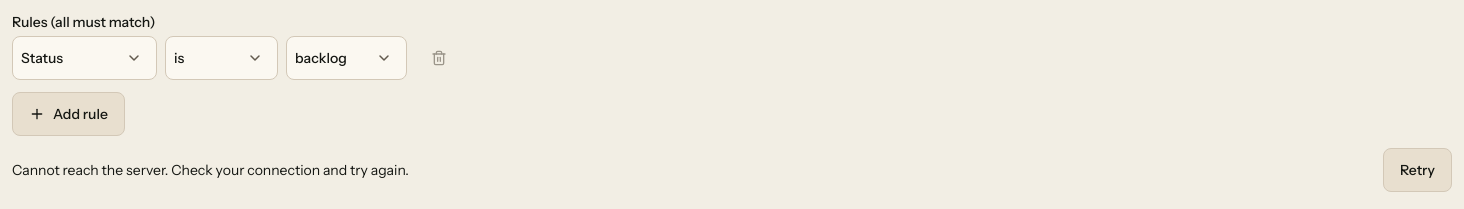
Test: RuleBuilder › shows a scoped preview error with Retry
The width and height of the screenshot is (1464, 209).
Expected: the message "Cannot reach the server. Check your connection and try again. Retry" is shown, x1=12 y1=148 x2=1452 y2=192
Click the button "Retry".
click(1418, 170)  # box x1=1383 y1=148 x2=1452 y2=192
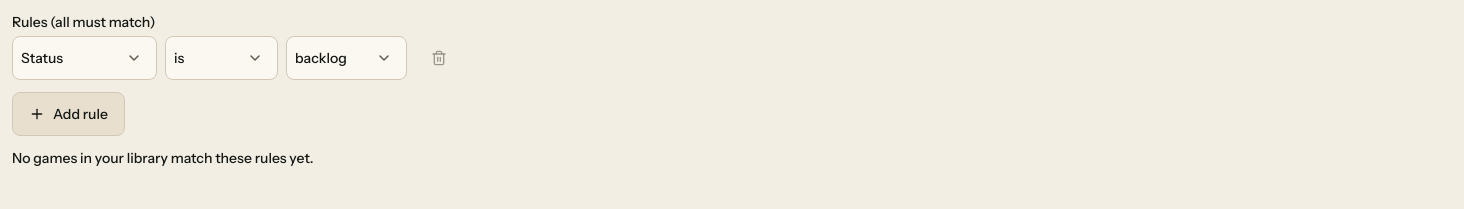
Now the text "No games in your library match these rules yet." is shown, box x1=12 y1=149 x2=313 y2=167
